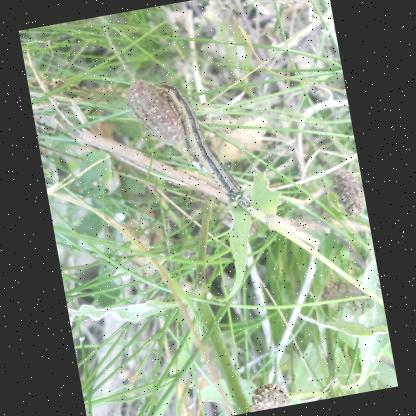Fall Armyworm Larvae: (150, 68, 256, 222)
